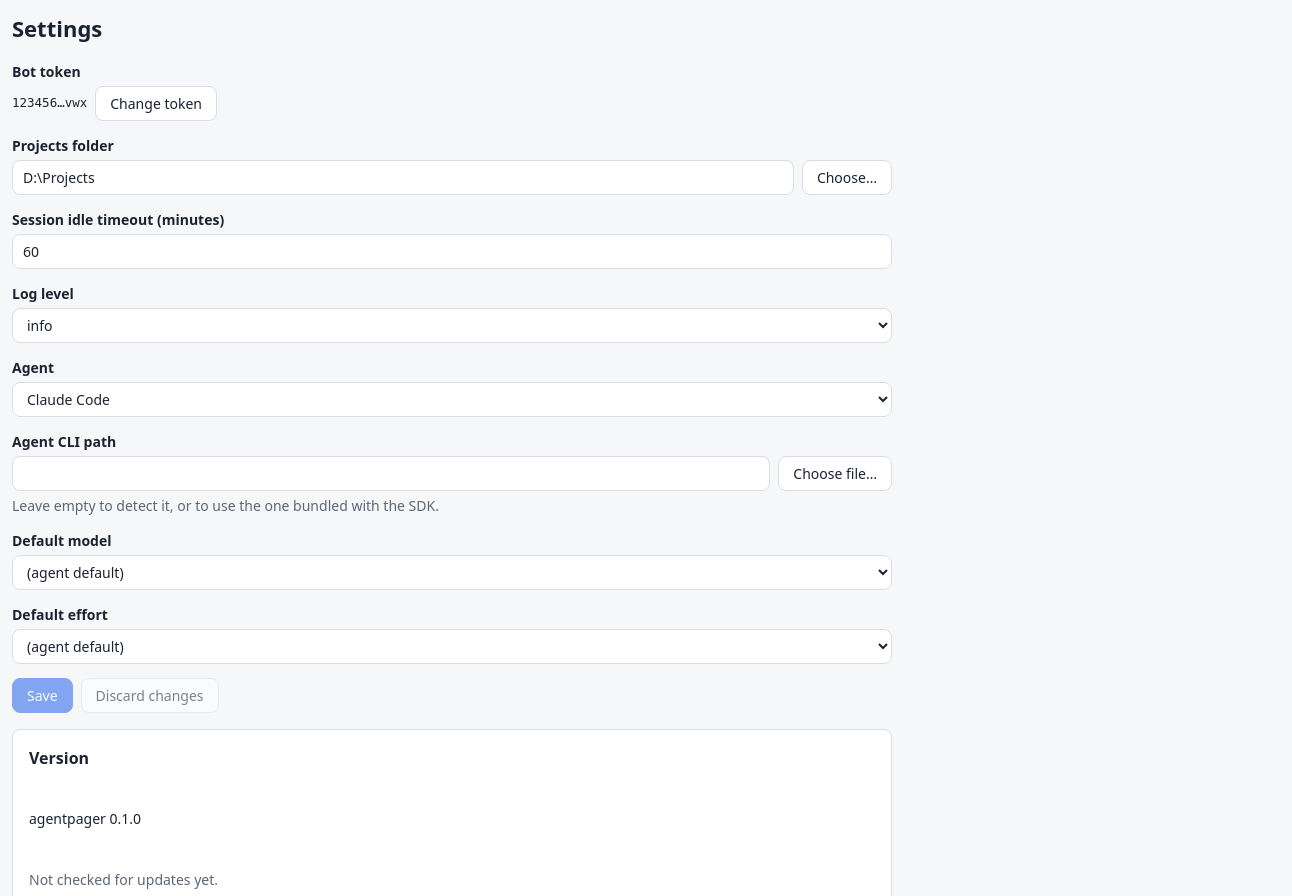
Test: SettingsScreen › checks minutes locally and shows core errors under their fields
Replace the text in the number field labelled "Session idle timeout (minutes)" with "0" at coordinates (452, 252), box [12,234,892,269]
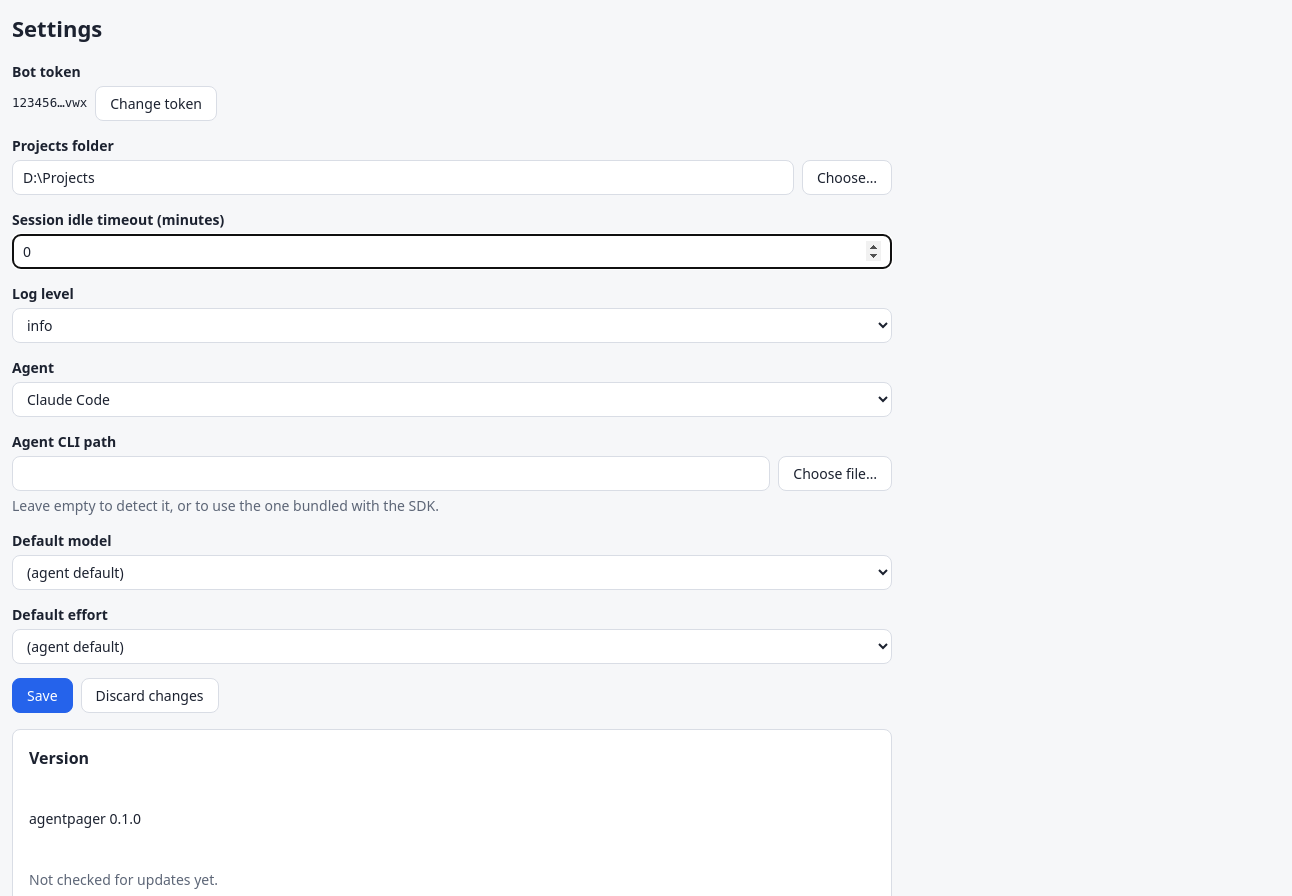
Click the button "Save" at coordinates (42, 696), box [12,678,73,713]
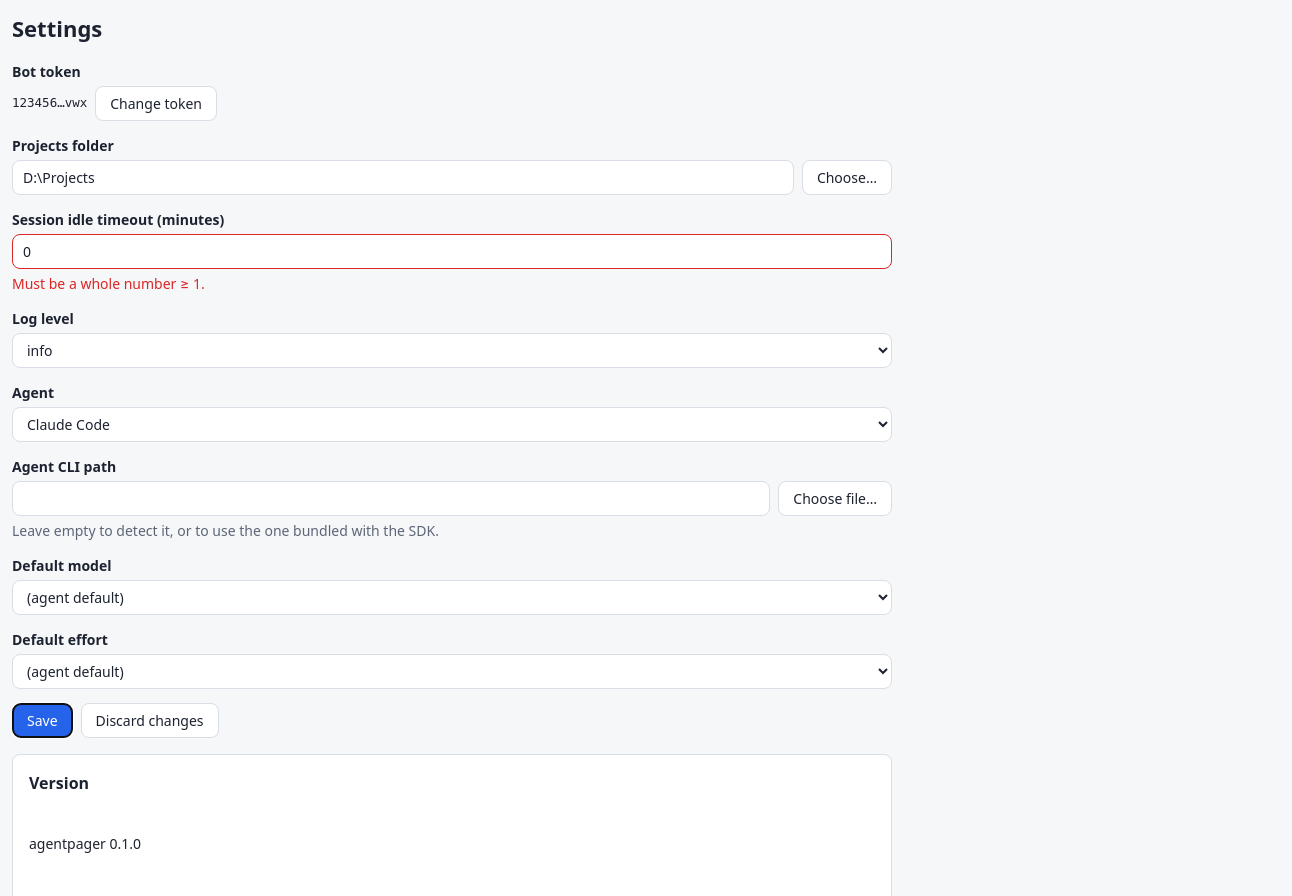
Expected: the list item "Must be a whole number ≥ 1." is shown, [12,274,205,293]
Replace the text in the number field labelled "Session idle timeout (minutes)" with "30" at coordinates (452, 252), box [12,234,892,269]
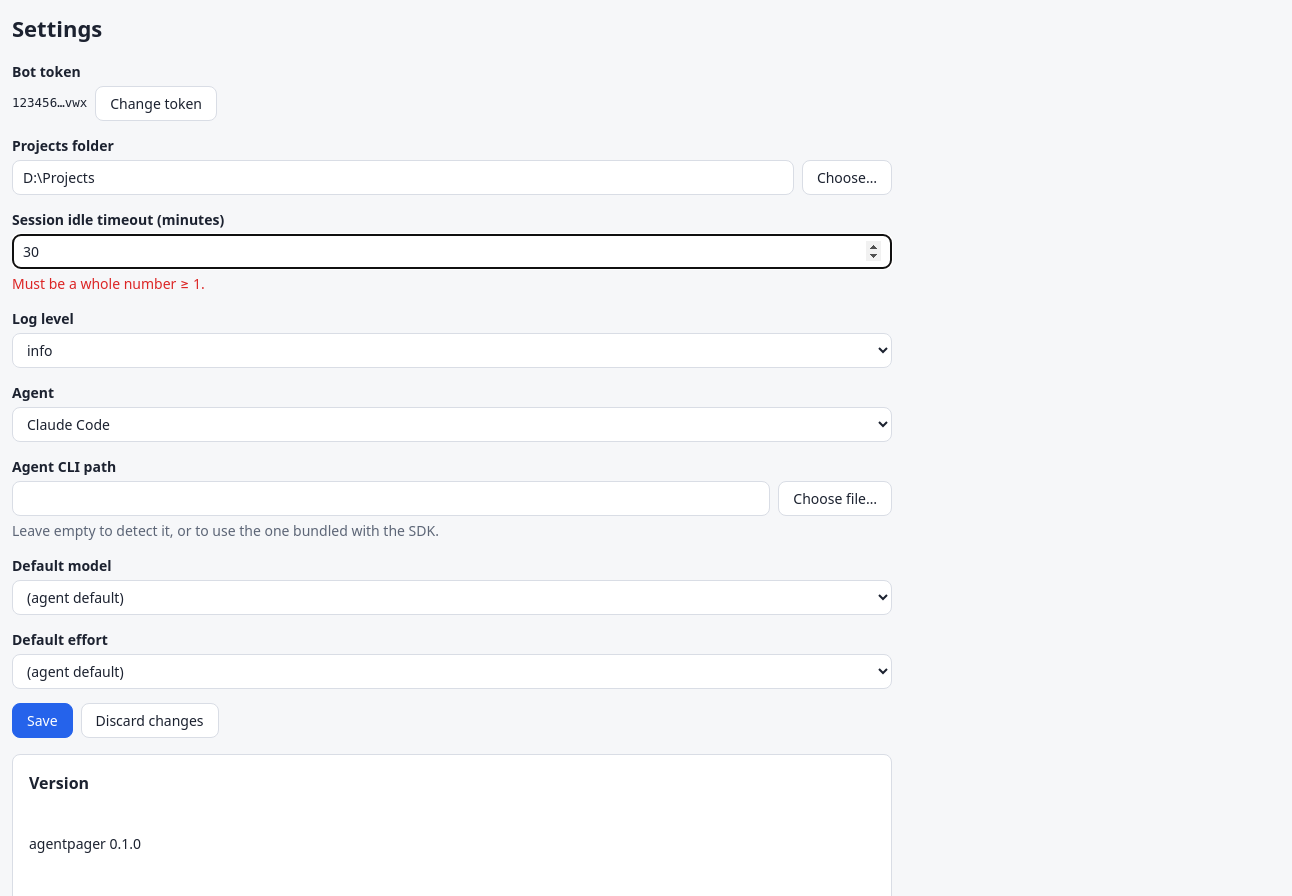
Replace the text in the field labelled "Projects folder" with "relative" at coordinates (403, 178), box [12,160,794,195]
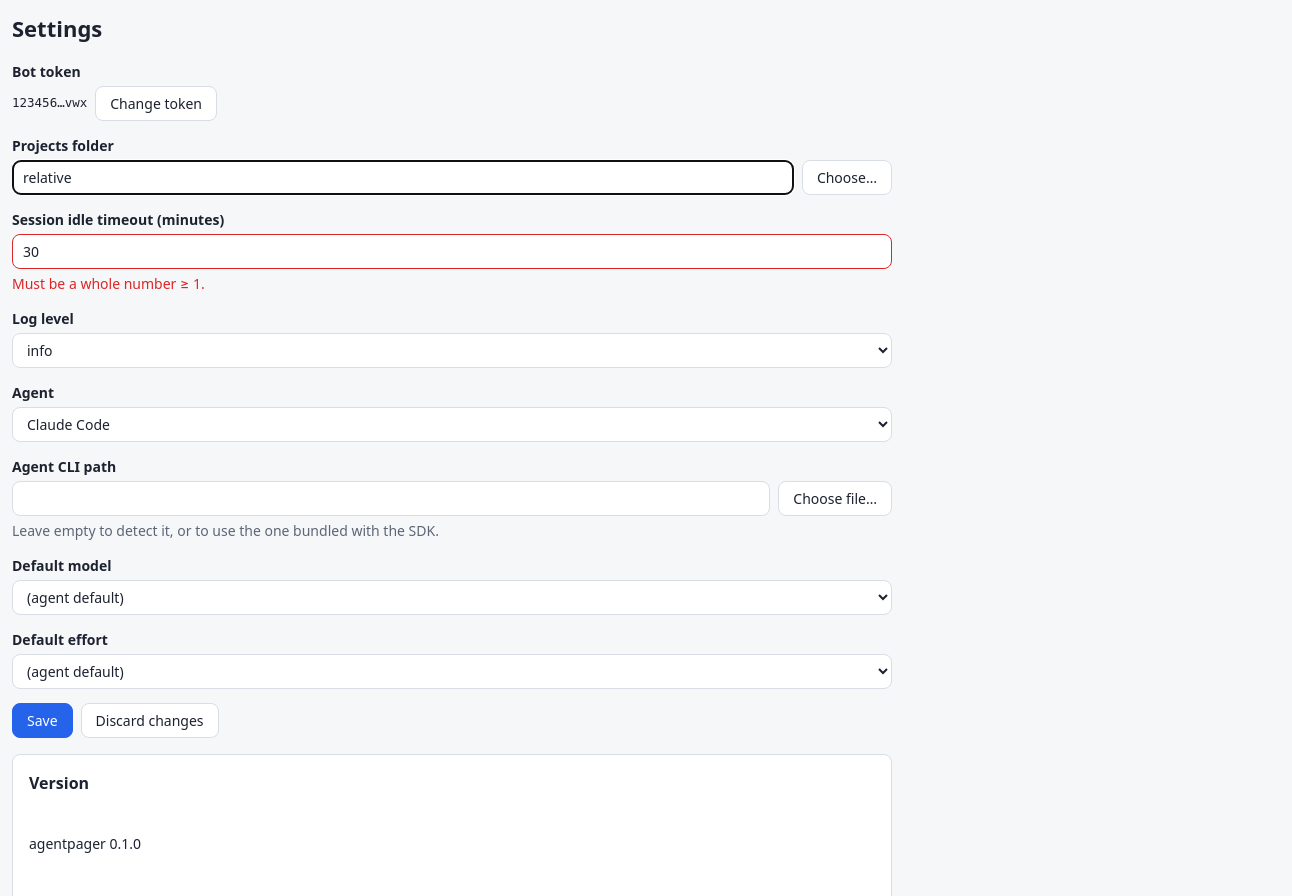
Click the button "Save" at coordinates (42, 720), box [12,703,73,738]
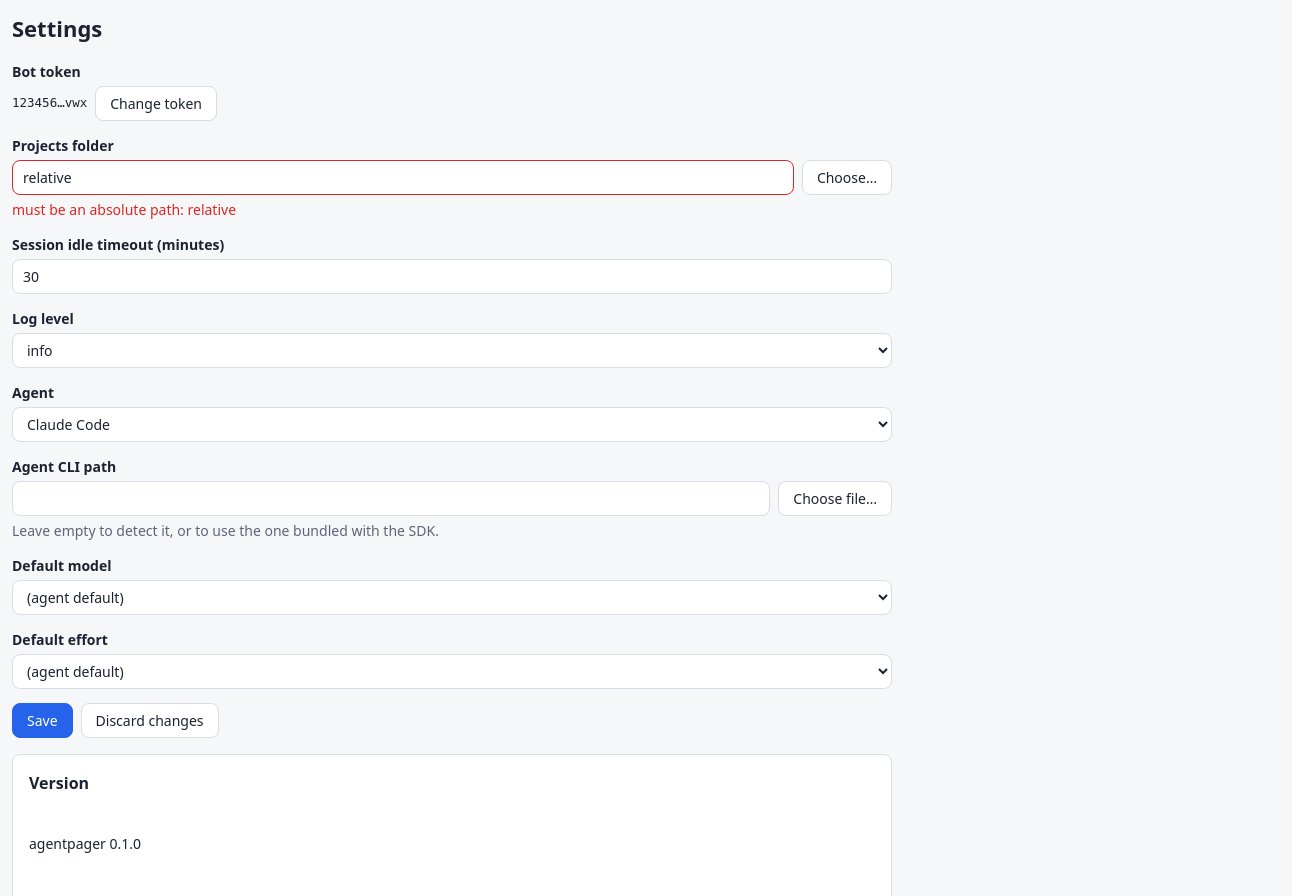
Expected: the list item "must be an absolute path: relative" is shown, [12,200,236,219]
